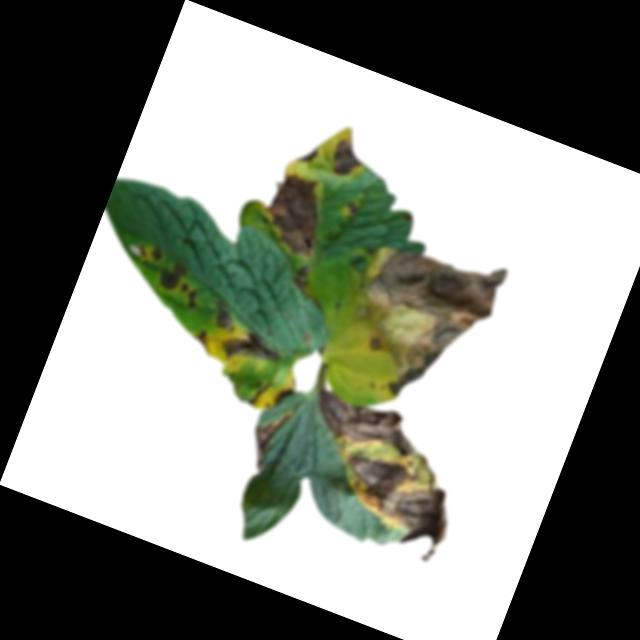Early_blight: (327, 221, 510, 419), (311, 442, 466, 567), (304, 381, 442, 474), (252, 163, 342, 262), (218, 321, 288, 377), (241, 405, 290, 473), (326, 132, 373, 186), (154, 258, 188, 296), (205, 298, 241, 333), (170, 278, 204, 313), (133, 237, 166, 272), (267, 380, 297, 413), (186, 325, 214, 356), (294, 139, 321, 167), (290, 262, 314, 289), (339, 198, 359, 222)
